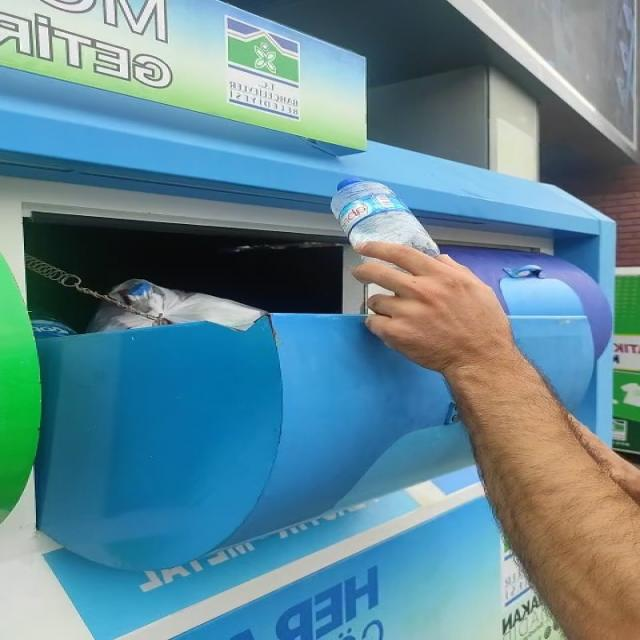plastic: (331, 178, 440, 256)
